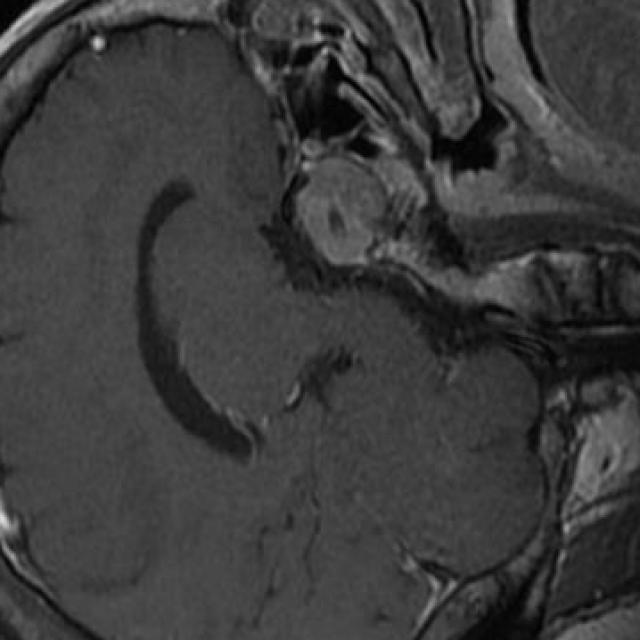pituitary: (296, 159, 387, 267)
